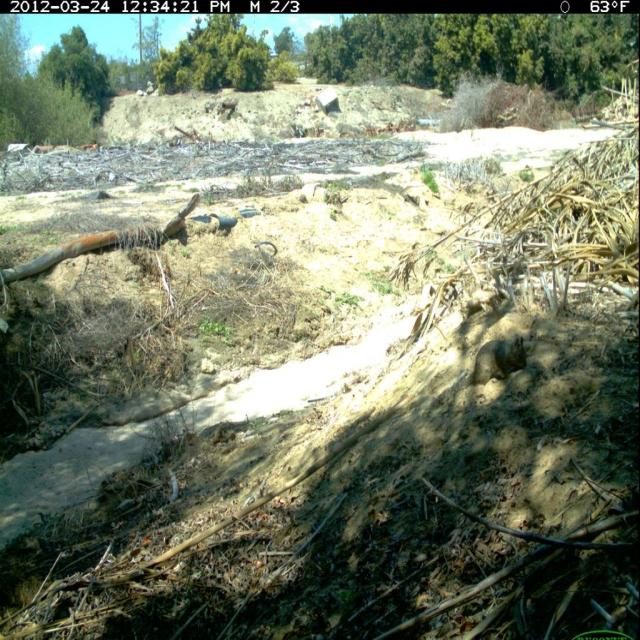squirrel: (429, 332, 531, 415)
